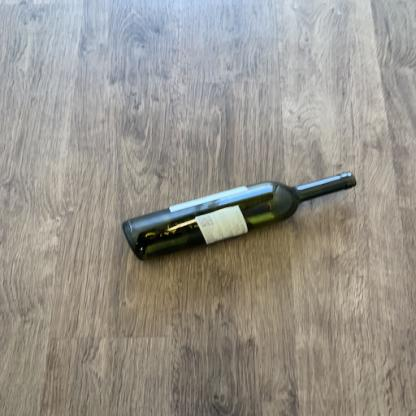trash: (122, 170, 358, 262)
